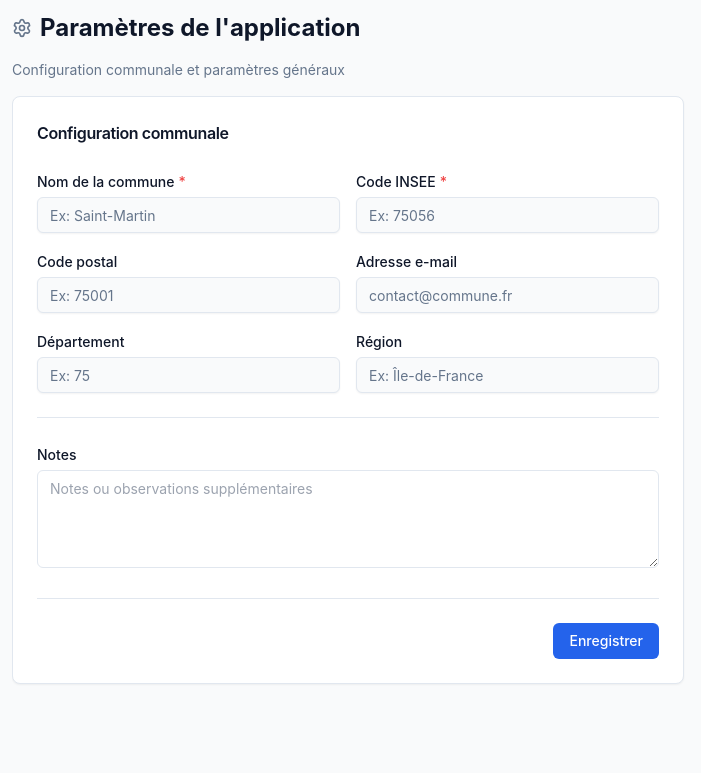
Test: Commune Settings - ParametresPage › accepte la soumission avec les champs obligatoires remplis
Type "Nouvelle Commune" into the field with placeholder "Ex: Saint-Martin" at (188, 215), box [37, 197, 340, 233]
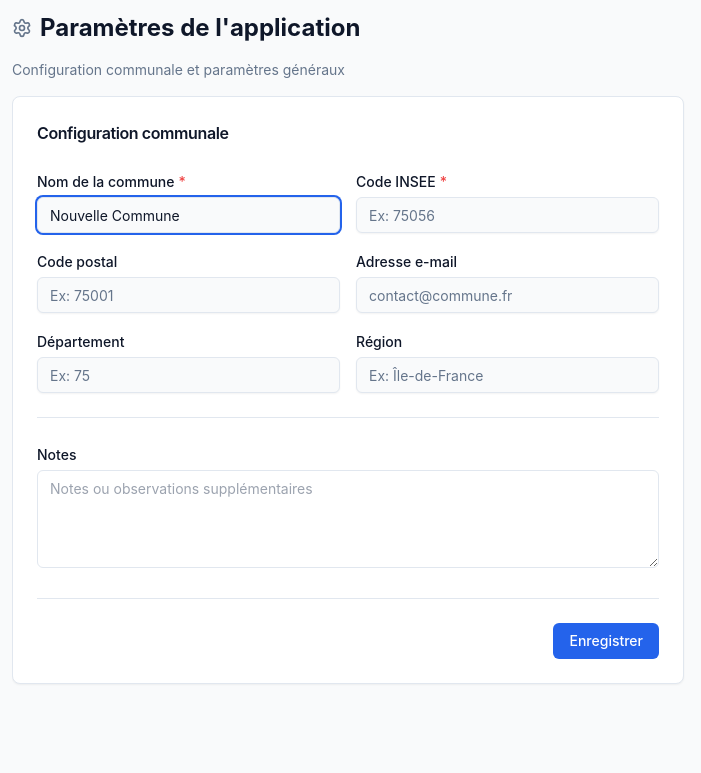
Type "12345" into the field with placeholder "Ex: 75056" at (508, 215), box [356, 197, 659, 233]
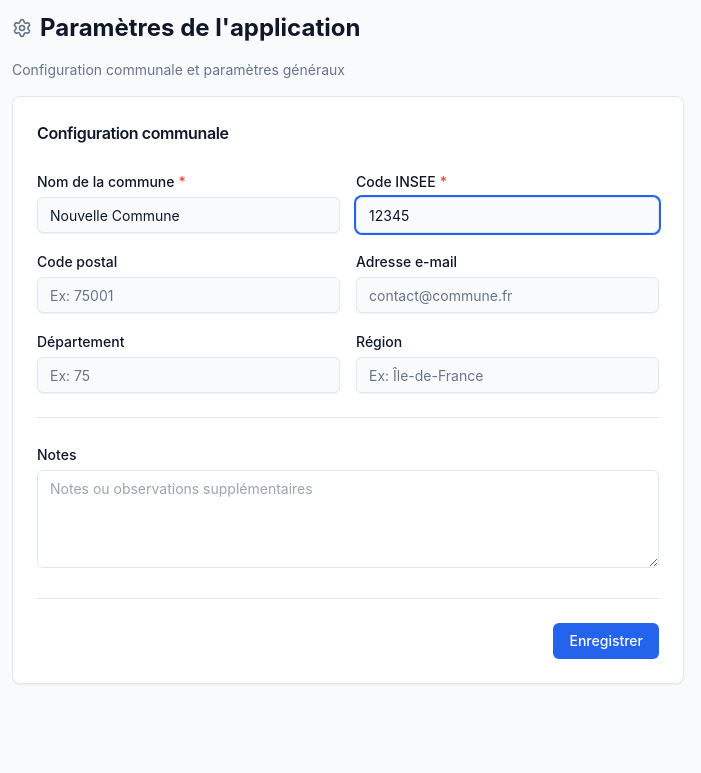
Click the button "Enregistrer" at (606, 641), box [554, 623, 659, 659]
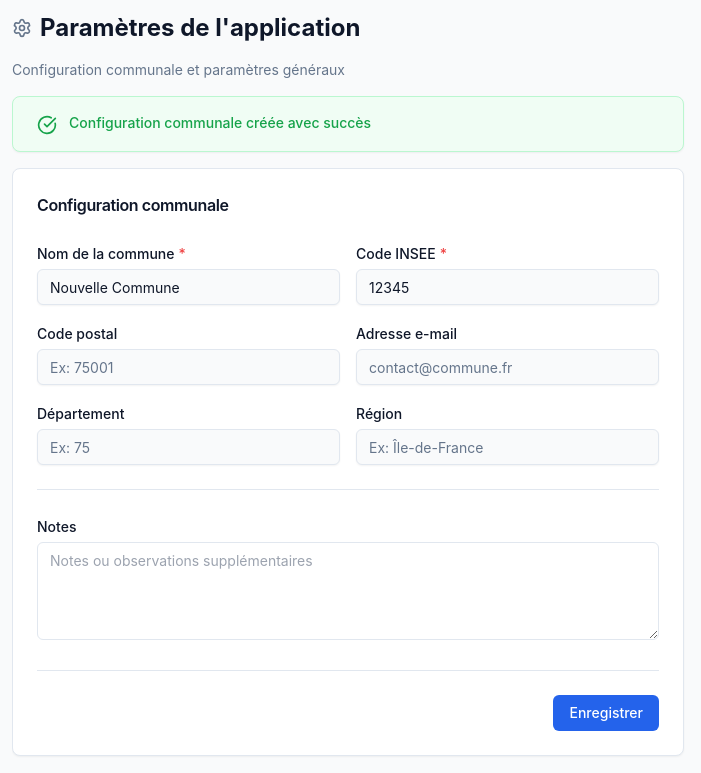
Now the text "Configuration communale créée avec succès" is shown, box [69, 114, 371, 131]
